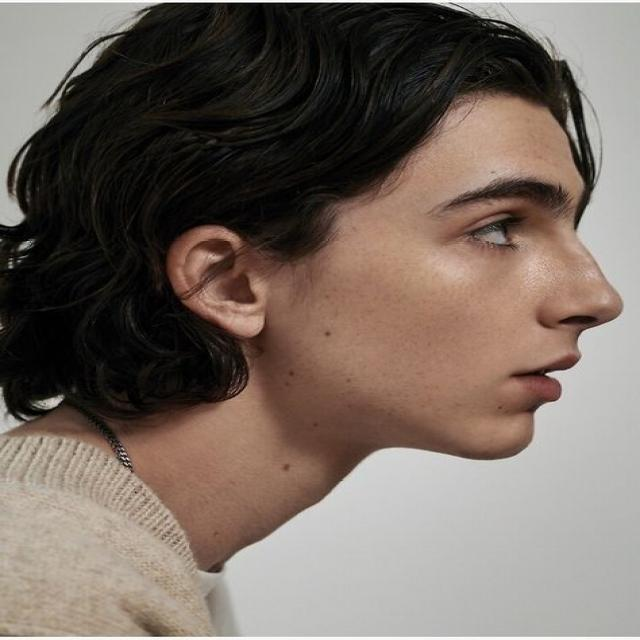Healthy: (121, 336, 497, 568)
